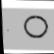no answer: (21, 14, 49, 40)
